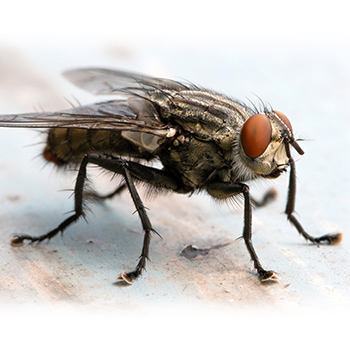phorid fly: (15, 39, 346, 313)
